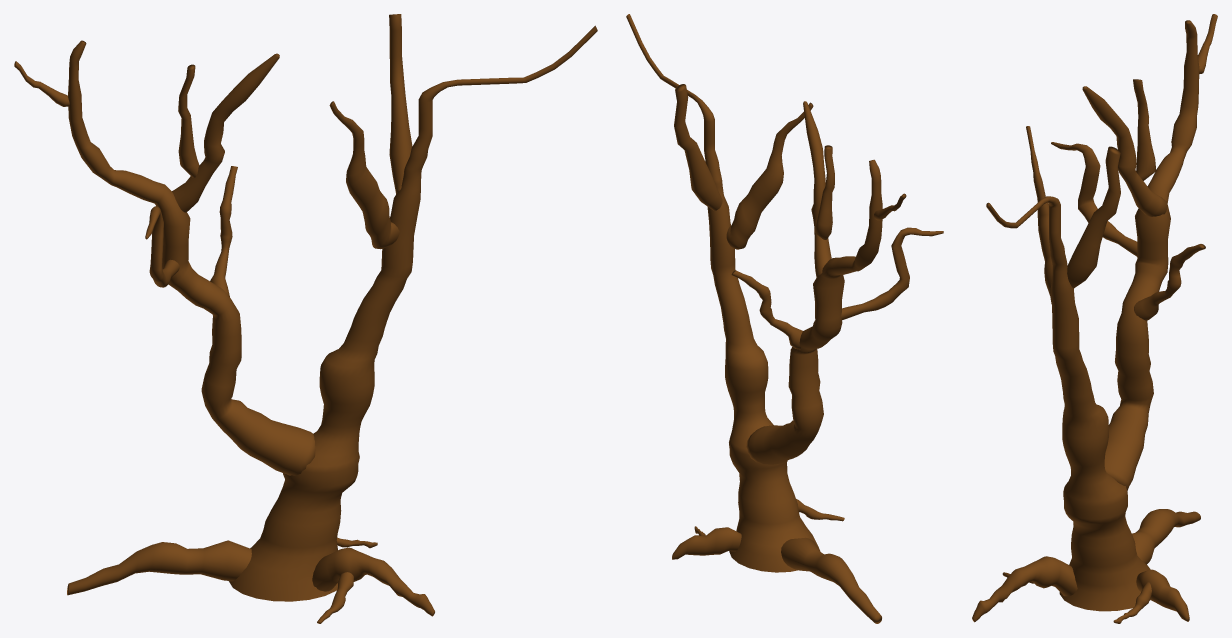
Rendered from Trunk.fbx.
3 renders of one model, left to right at view 1: azimuth 30°, elevation 25°; view 2: azimuth 150°, elevation 25°; view 3: azimuth 270°, elevation 25°, orthographic. The views are drawn at different scales.
Visible parts, largest first — view 1: pCylinder1, pCylinder2, pCylinder15, pCylinder11, pCylinder3, pCylinder16, pCylinder13, pCylinder4, pCylinder5, pCylinder12; view 2: pCylinder1, pCylinder2, pCylinder3, pCylinder15, pCylinder13, pCylinder11, pCylinder5, pCylinder17, pCylinder4, pCylinder12; view 3: pCylinder1, pCylinder2, pCylinder13, pCylinder11, pCylinder16, pCylinder5, pCylinder15, pCylinder12, pCylinder3, pCylinder4, pCylinder17, pCylinder19 (+1 smaller).
Part boxes in pixels (x1,y1,x2,y2): pCylinder1: [229, 25, 597, 601]; pCylinder2: [68, 40, 315, 475]; pCylinder15: [67, 540, 251, 595]; pCylinder11: [172, 53, 279, 212]; pCylinder3: [329, 101, 399, 249]; pCylinder16: [312, 547, 434, 616]; pCylinder13: [389, 14, 412, 193]; pCylinder4: [210, 166, 237, 296]; pCylinder5: [145, 206, 179, 287]; pCylinder12: [178, 64, 199, 177]; pCylinder1: [626, 14, 819, 572]; pCylinder2: [746, 159, 882, 464]; pCylinder3: [726, 102, 813, 249]; pCylinder15: [781, 537, 881, 623]; pCylinder13: [674, 84, 722, 210]; pCylinder11: [803, 101, 831, 278]; pCylinder5: [841, 227, 943, 320]; pCylinder17: [672, 527, 741, 559]; pCylinder4: [731, 270, 802, 349]; pCylinder12: [814, 145, 834, 239]; pCylinder1: [986, 196, 1150, 611]; pCylinder2: [1104, 20, 1199, 490]; pCylinder13: [1067, 146, 1120, 288]; pCylinder11: [1082, 86, 1167, 216]; pCylinder16: [972, 556, 1077, 622]; pCylinder5: [1051, 142, 1137, 256]; pCylinder15: [1132, 509, 1200, 564]; pCylinder12: [1133, 79, 1156, 180]; pCylinder3: [1026, 126, 1052, 304]; pCylinder4: [1134, 244, 1205, 320]; pCylinder17: [1136, 569, 1189, 621]; pCylinder19: [1113, 582, 1151, 623].
Size of the model in its own units: 6.12 by 7.04 by 3.11.
